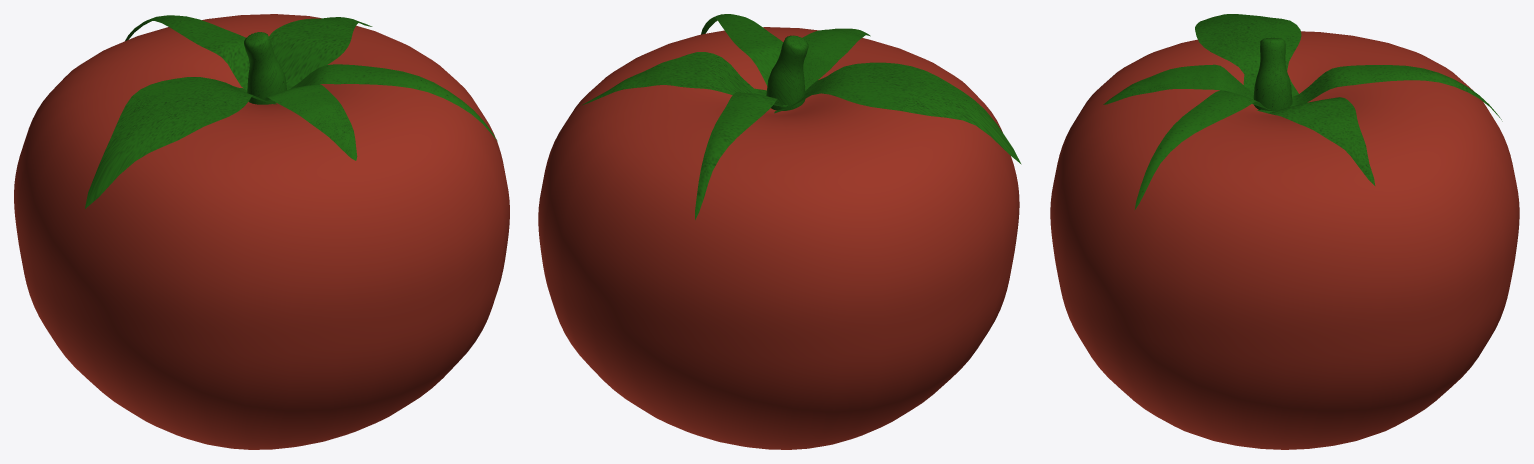
The model's file is tomat.bra.fbx.
The picture shows the model from 3 angles, left to right: view 1: azimuth 30°, elevation 25°; view 2: azimuth 150°, elevation 25°; view 3: azimuth 270°, elevation 25°; orthographic projection. The views are drawn at different scales.
Parts seen in each view (by area): view 1: tomat; view 2: tomat; view 3: tomat.
Part boxes in pixels (x1=…): tomat: x1=14, y1=14, x2=509, y2=449; tomat: x1=538, y1=14, x2=1021, y2=449; tomat: x1=1050, y1=14, x2=1519, y2=449.
Size of the model in its own units: 0.4732 by 0.4227 by 0.4692.
7 materials, 7 textured.
